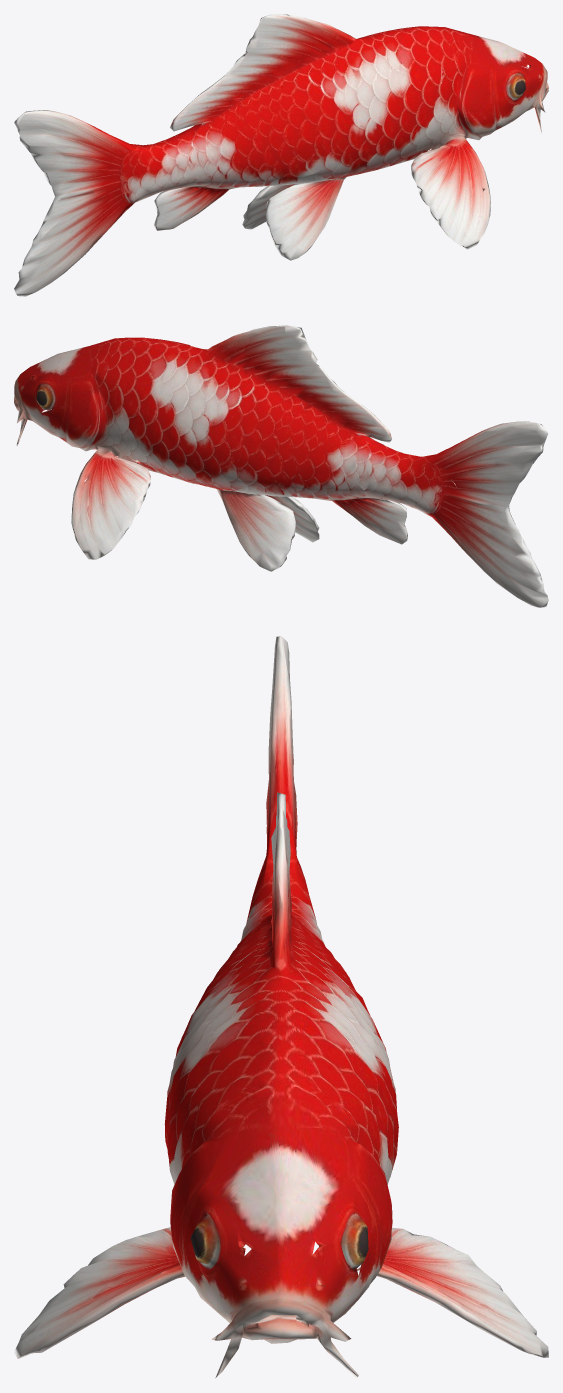
File: koi.glb
3 views of the same model, one above another, from view 1: azimuth 30°, elevation 25°; view 2: azimuth 150°, elevation 25°; view 3: azimuth 270°, elevation 25° (orthographic). The views are drawn at different scales.
Visible parts, largest first — view 1: koi; view 2: koi; view 3: koi.
Boxes of the visible parts, x1,y1,x2,y2 form: koi: (14,14,548,296); koi: (14,325,548,607); koi: (14,636,548,1377).
Bounding box in the file's own units: 1 × 0.4142 × 0.44.
Materials: 1 (1 with a texture image).
